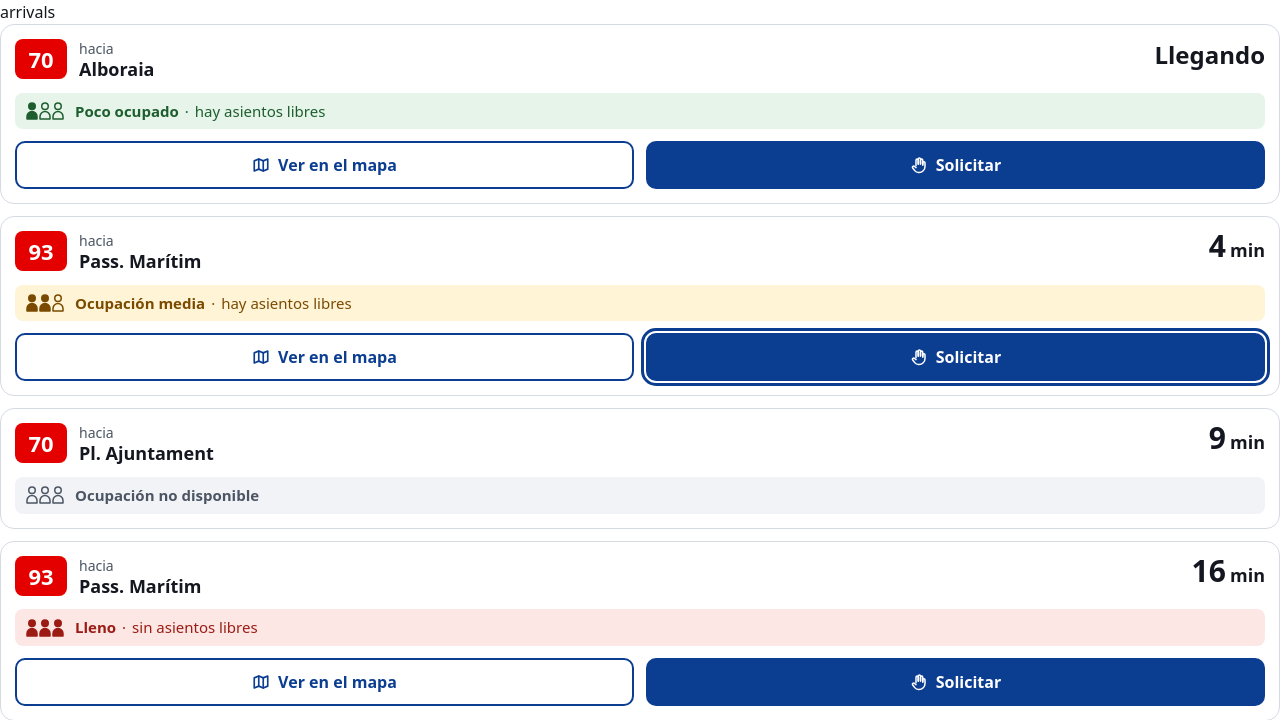
it: RequestDialog › [passenger_alert_ui.AC-06] with 429, Retry-After 125 s the dialog stays open with a focused role="alert" message
The width and height of the screenshot is (1280, 720).
Click the button named "Solicitar parada a la línea 93 hacia Passeig Marítim - Hospital Malva-rosa" at (956, 357), box left=646, top=333, right=1265, bottom=381
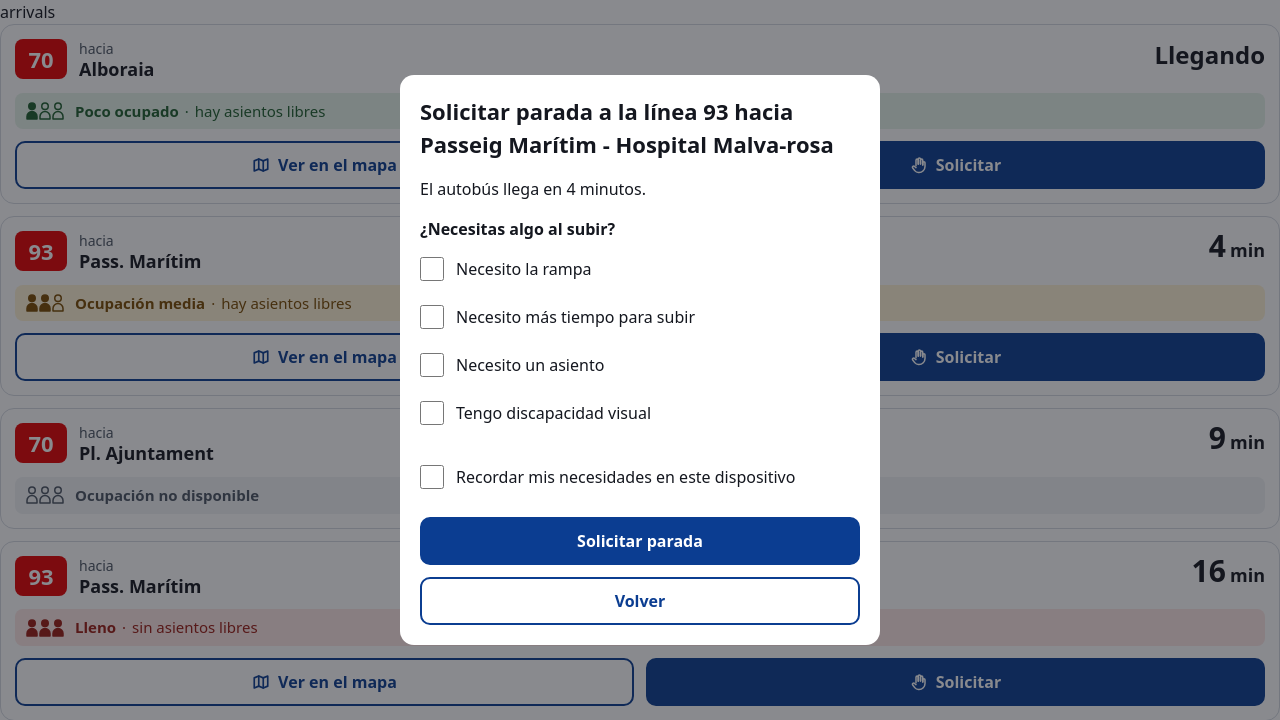
Click the button "Solicitar parada" at (640, 541), box left=420, top=517, right=860, bottom=565
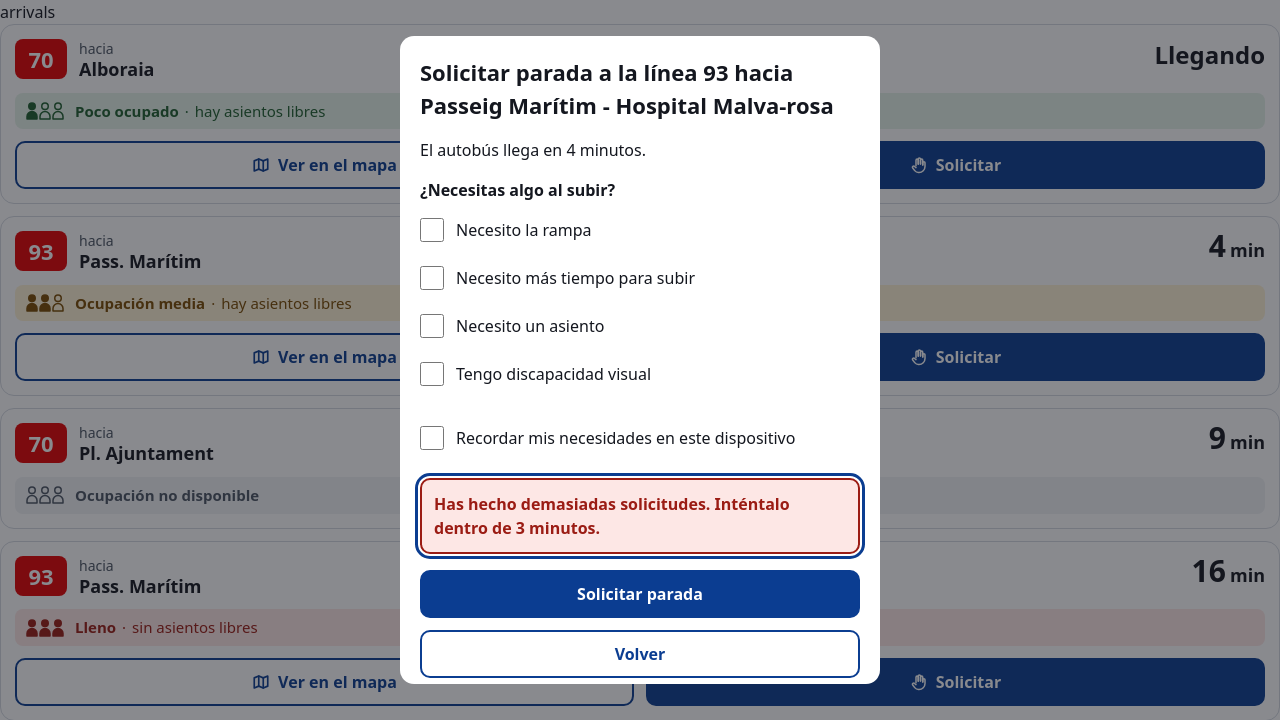
expect the button "Solicitar parada" is enabled: met, box left=420, top=570, right=860, bottom=618
expect the message reads "Has hecho demasiadas solicitudes. Inténtalo dentro de 3 minutos.": met, box left=434, top=493, right=790, bottom=539
